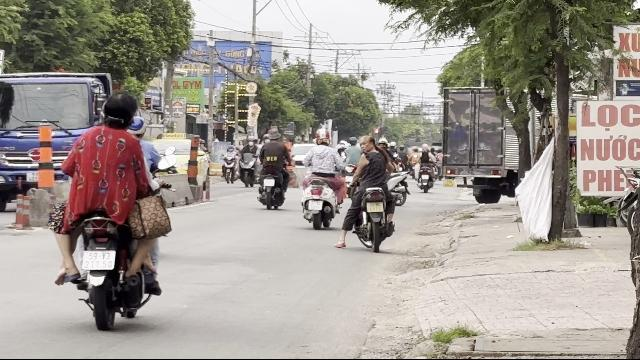licenseplate: (83, 250, 115, 270), (367, 202, 383, 212)
motorcyclist: (48, 91, 174, 329), (342, 132, 398, 252)
nohelmet: (100, 94, 138, 130), (358, 135, 376, 153)
